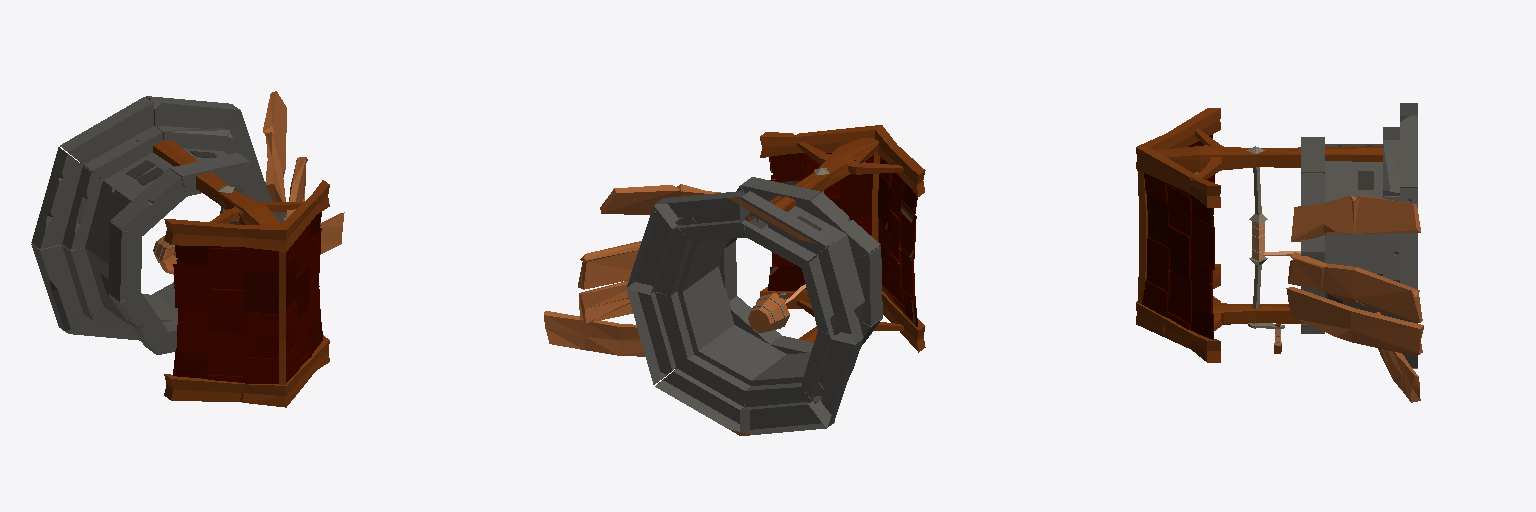
The picture shows the model from 3 angles: view 1: azimuth 30°, elevation 25°; view 2: azimuth 150°, elevation 25°; view 3: azimuth 270°, elevation 25°; orthographic projection.
Parts seen in each view (by area): view 1: Object.1; view 2: Object.1; view 3: Object.1.
Boxes of the visible parts, x1,y1,x2,y2 form: Object.1: [31, 91, 344, 407]; Object.1: [544, 125, 925, 435]; Object.1: [1136, 103, 1423, 402].
Bounding box in the file's own units: 5552 × 4073 × 4460.
1 materials, 1 textured.